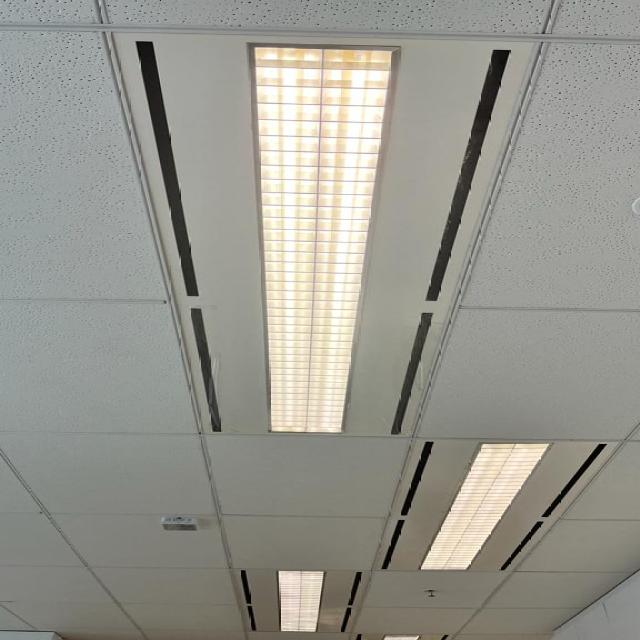Light-Opened: (106, 26, 543, 438), (379, 438, 624, 571), (229, 568, 365, 638)
